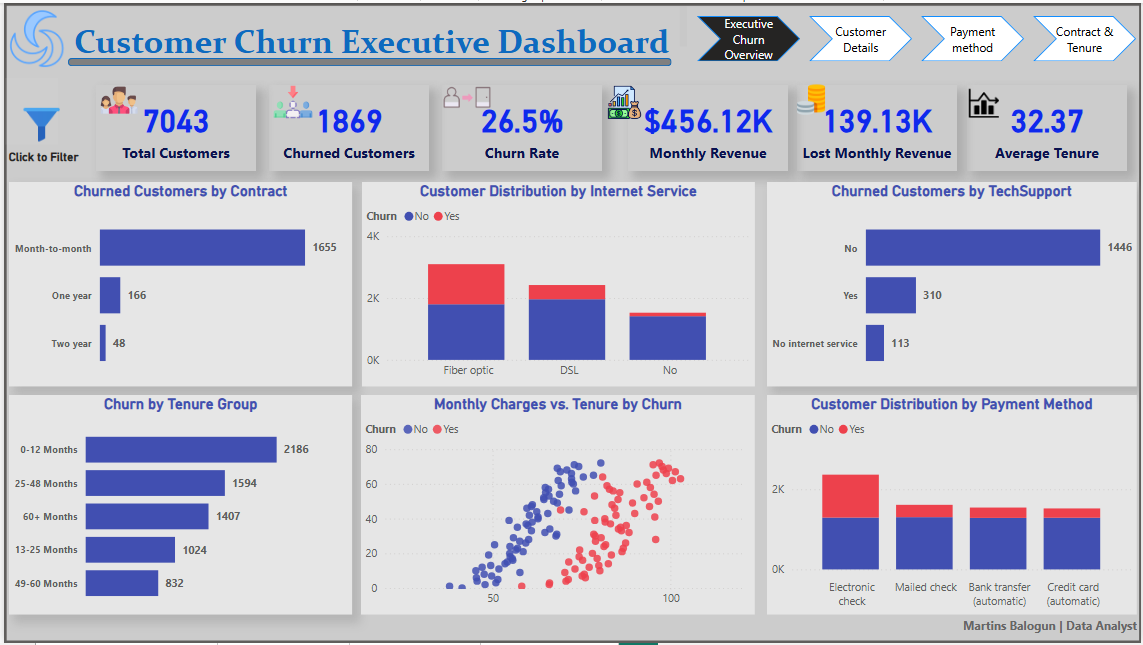

The dashboard page shown, as its layout file describes it:
{"tool":"powerbi","page":{"name":"Executive Churn Overview","canvas":[1280,720],"ordinal":0},"visuals":[{"type":"textbox","box":[74,-1.1,699.5,62.7],"z":0},{"type":"image","title":"filter Image","box":[6.6,107,70.9,58.2],"z":0,"group":"g1"},{"type":"actionButton","title":"Full page close","box":[0,0,1280,720.1],"z":1000},{"type":"actionButton","box":[1.1,84.3,60,75.4],"z":1000,"group":"g1"},{"type":"card","fields":{"Values":["WA_Fn-UseC_-Telco-Customer-Churn.Total Customers"]},"box":[103.5,92.3,180,96.8],"z":2000},{"type":"card","fields":{"Values":["WA_Fn-UseC_-Telco-Customer-Churn.Churned Customers"]},"box":[298.3,92.3,180,96.8],"z":3000},{"type":"card","fields":{"Values":["WA_Fn-UseC_-Telco-Customer-Churn.Average Tenure"]},"box":[1083.4,91.8,180,96.9],"z":4000},{"type":"image","box":[103.7,83.2,52.4,52.4],"z":5000},{"type":"image","box":[-0.7,1.4,76.5,77.8],"z":6000},{"type":"shape","box":[71.7,61.5,679,9.1],"z":7000},{"type":"image","box":[667.6,87.7,61.5,47.8],"z":8000},{"type":"card","fields":{"Values":["WA_Fn-UseC_-Telco-Customer-Churn.Monthly Revenue"]},"box":[701.8,92.3,180,96.8],"z":9000},{"type":"image","box":[298.3,84.3,53.5,53.5],"z":10000},{"type":"image","box":[1065.2,91.1,74.1,43.3],"z":11000},{"type":"actionButton","title":"Click to Filter","box":[0,165.2,88.9,23.9],"z":12000},{"type":"card","fields":{"Values":["Measures Table.Churn Rate"]},"box":[493.3,92.3,180,96.8],"z":13000},{"type":"card","fields":{"Values":["Measures Table.Lost Monthly Revenue"]},"box":[892,92.3,180,96.8],"z":14000},{"type":"clusteredBarChart","fields":{"Category":["Fact Customer Churn.Contract"],"Y":["Measures Table.Churned Customers"]},"box":[5.7,201.6,386.2,230.1],"z":15000},{"type":"columnChart","title":"Customer Distribution by Internet Service","fields":{"Category":["Fact Customer Churn.InternetService"],"Series":["Fact Customer Churn.Churn"],"Y":["Measures Table.Total Customers"]},"box":[403.3,201.6,442,230.1],"z":16000},{"type":"barChart","fields":{"Category":["Fact Customer Churn.TechSupport"],"Y":["Measures Table.Churned Customers"]},"box":[857.8,201.6,415.8,230.1],"z":17000},{"type":"barChart","title":"Churn by Tenure Group","fields":{"Y":["CountNonNull(Fact Customer Churn.Churn)"],"Category":["Fact Customer Churn.Tenure Group"]},"box":[5.7,440.9,386.2,247.2],"z":18000},{"type":"scatterChart","title":"Monthly Charges vs. Tenure by Churn","fields":{"X":["Fact Customer Churn.MonthlyCharges"],"Y":["Fact Customer Churn.tenure"],"Series":["Fact Customer Churn.Churn"]},"box":[402.2,440.9,443.2,247.2],"z":19000},{"type":"columnChart","title":"Customer Distribution by Payment Method","fields":{"Category":["Fact Customer Churn.PaymentMethod"],"Series":["Fact Customer Churn.Churn"],"Y":["Measures Table.Total Customers"]},"box":[857.8,440.9,415.8,247.2],"z":20000},{"type":"textbox","title":"Label","box":[979.7,685.8,299.6,34.2],"z":21000},{"type":"group","id":"g1","title":"Slicer Open","box":[1.1,84.3,76.3,80.9],"z":22000},{"type":"pageNavigator","box":[780.1,14.8,495,51.8],"z":24000},{"type":"image","box":[480.4,68.6,81,75.4],"z":25000},{"type":"image","box":[882,82.1,51.8,54],"z":26000}]}

Visuals, with their boxes in screenshot pixels (x1, y1, x2, y2), scaled from the page's 1280x720 canvas onto the 1143x645 screenshot:
textbox: (left=66, top=0, right=691, bottom=55)
"filter Image" image: (left=6, top=96, right=69, bottom=148)
"Full page close" actionButton: (left=0, top=0, right=1142, bottom=644)
actionButton: (left=1, top=76, right=55, bottom=143)
card - WA_Fn-UseC_-Telco-Customer-Churn.Total Customers: (left=92, top=83, right=253, bottom=169)
card - WA_Fn-UseC_-Telco-Customer-Churn.Churned Customers: (left=266, top=83, right=427, bottom=169)
card - WA_Fn-UseC_-Telco-Customer-Churn.Average Tenure: (left=967, top=82, right=1128, bottom=169)
image: (left=93, top=75, right=139, bottom=121)
image: (left=0, top=1, right=68, bottom=71)
shape: (left=64, top=55, right=670, bottom=63)
image: (left=596, top=79, right=651, bottom=121)
card - WA_Fn-UseC_-Telco-Customer-Churn.Monthly Revenue: (left=627, top=83, right=787, bottom=169)
image: (left=266, top=76, right=314, bottom=123)
image: (left=951, top=82, right=1017, bottom=120)
"Click to Filter" actionButton: (left=0, top=148, right=79, bottom=169)
card - Measures Table.Churn Rate: (left=441, top=83, right=601, bottom=169)
card - Measures Table.Lost Monthly Revenue: (left=797, top=83, right=957, bottom=169)
clusteredBarChart - Fact Customer Churn.Contract x Measures Table.Churned Customers: (left=5, top=181, right=350, bottom=387)
"Customer Distribution by Internet Service" columnChart: (left=360, top=181, right=755, bottom=387)
barChart - Fact Customer Churn.TechSupport x Measures Table.Churned Customers: (left=766, top=181, right=1137, bottom=387)
"Churn by Tenure Group" barChart: (left=5, top=395, right=350, bottom=616)
"Monthly Charges vs. Tenure by Churn" scatterChart: (left=359, top=395, right=755, bottom=616)
"Customer Distribution by Payment Method" columnChart: (left=766, top=395, right=1137, bottom=616)
"Label" textbox: (left=875, top=614, right=1142, bottom=644)
"Slicer Open" group: (left=1, top=76, right=69, bottom=148)
pageNavigator: (left=697, top=13, right=1139, bottom=60)
image: (left=429, top=61, right=501, bottom=129)
image: (left=788, top=74, right=834, bottom=122)
